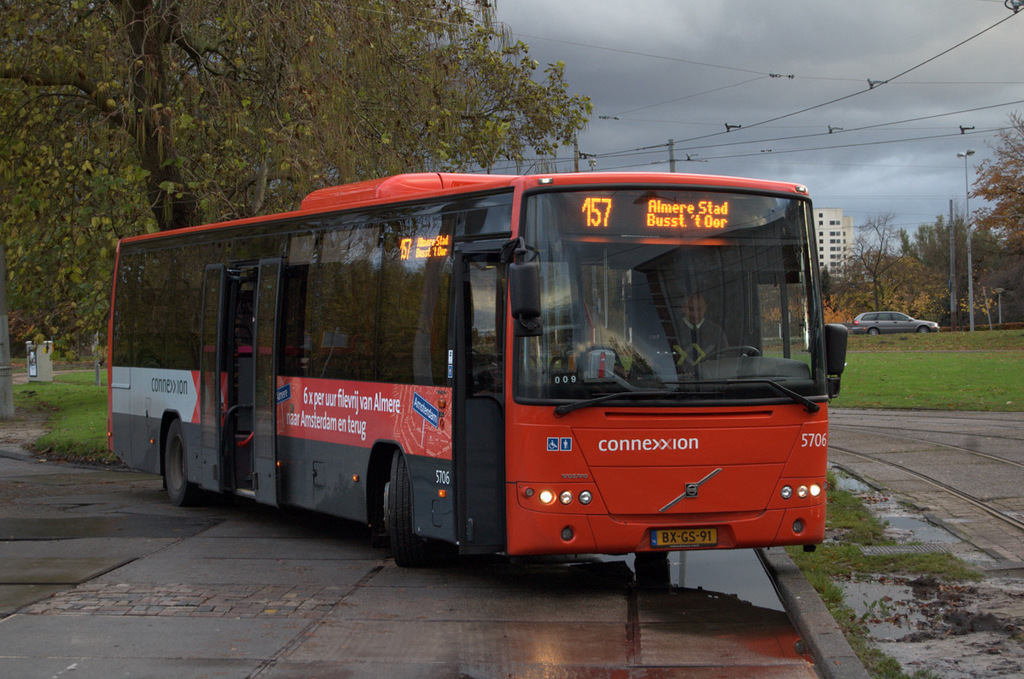Car: (850, 306, 936, 334)
